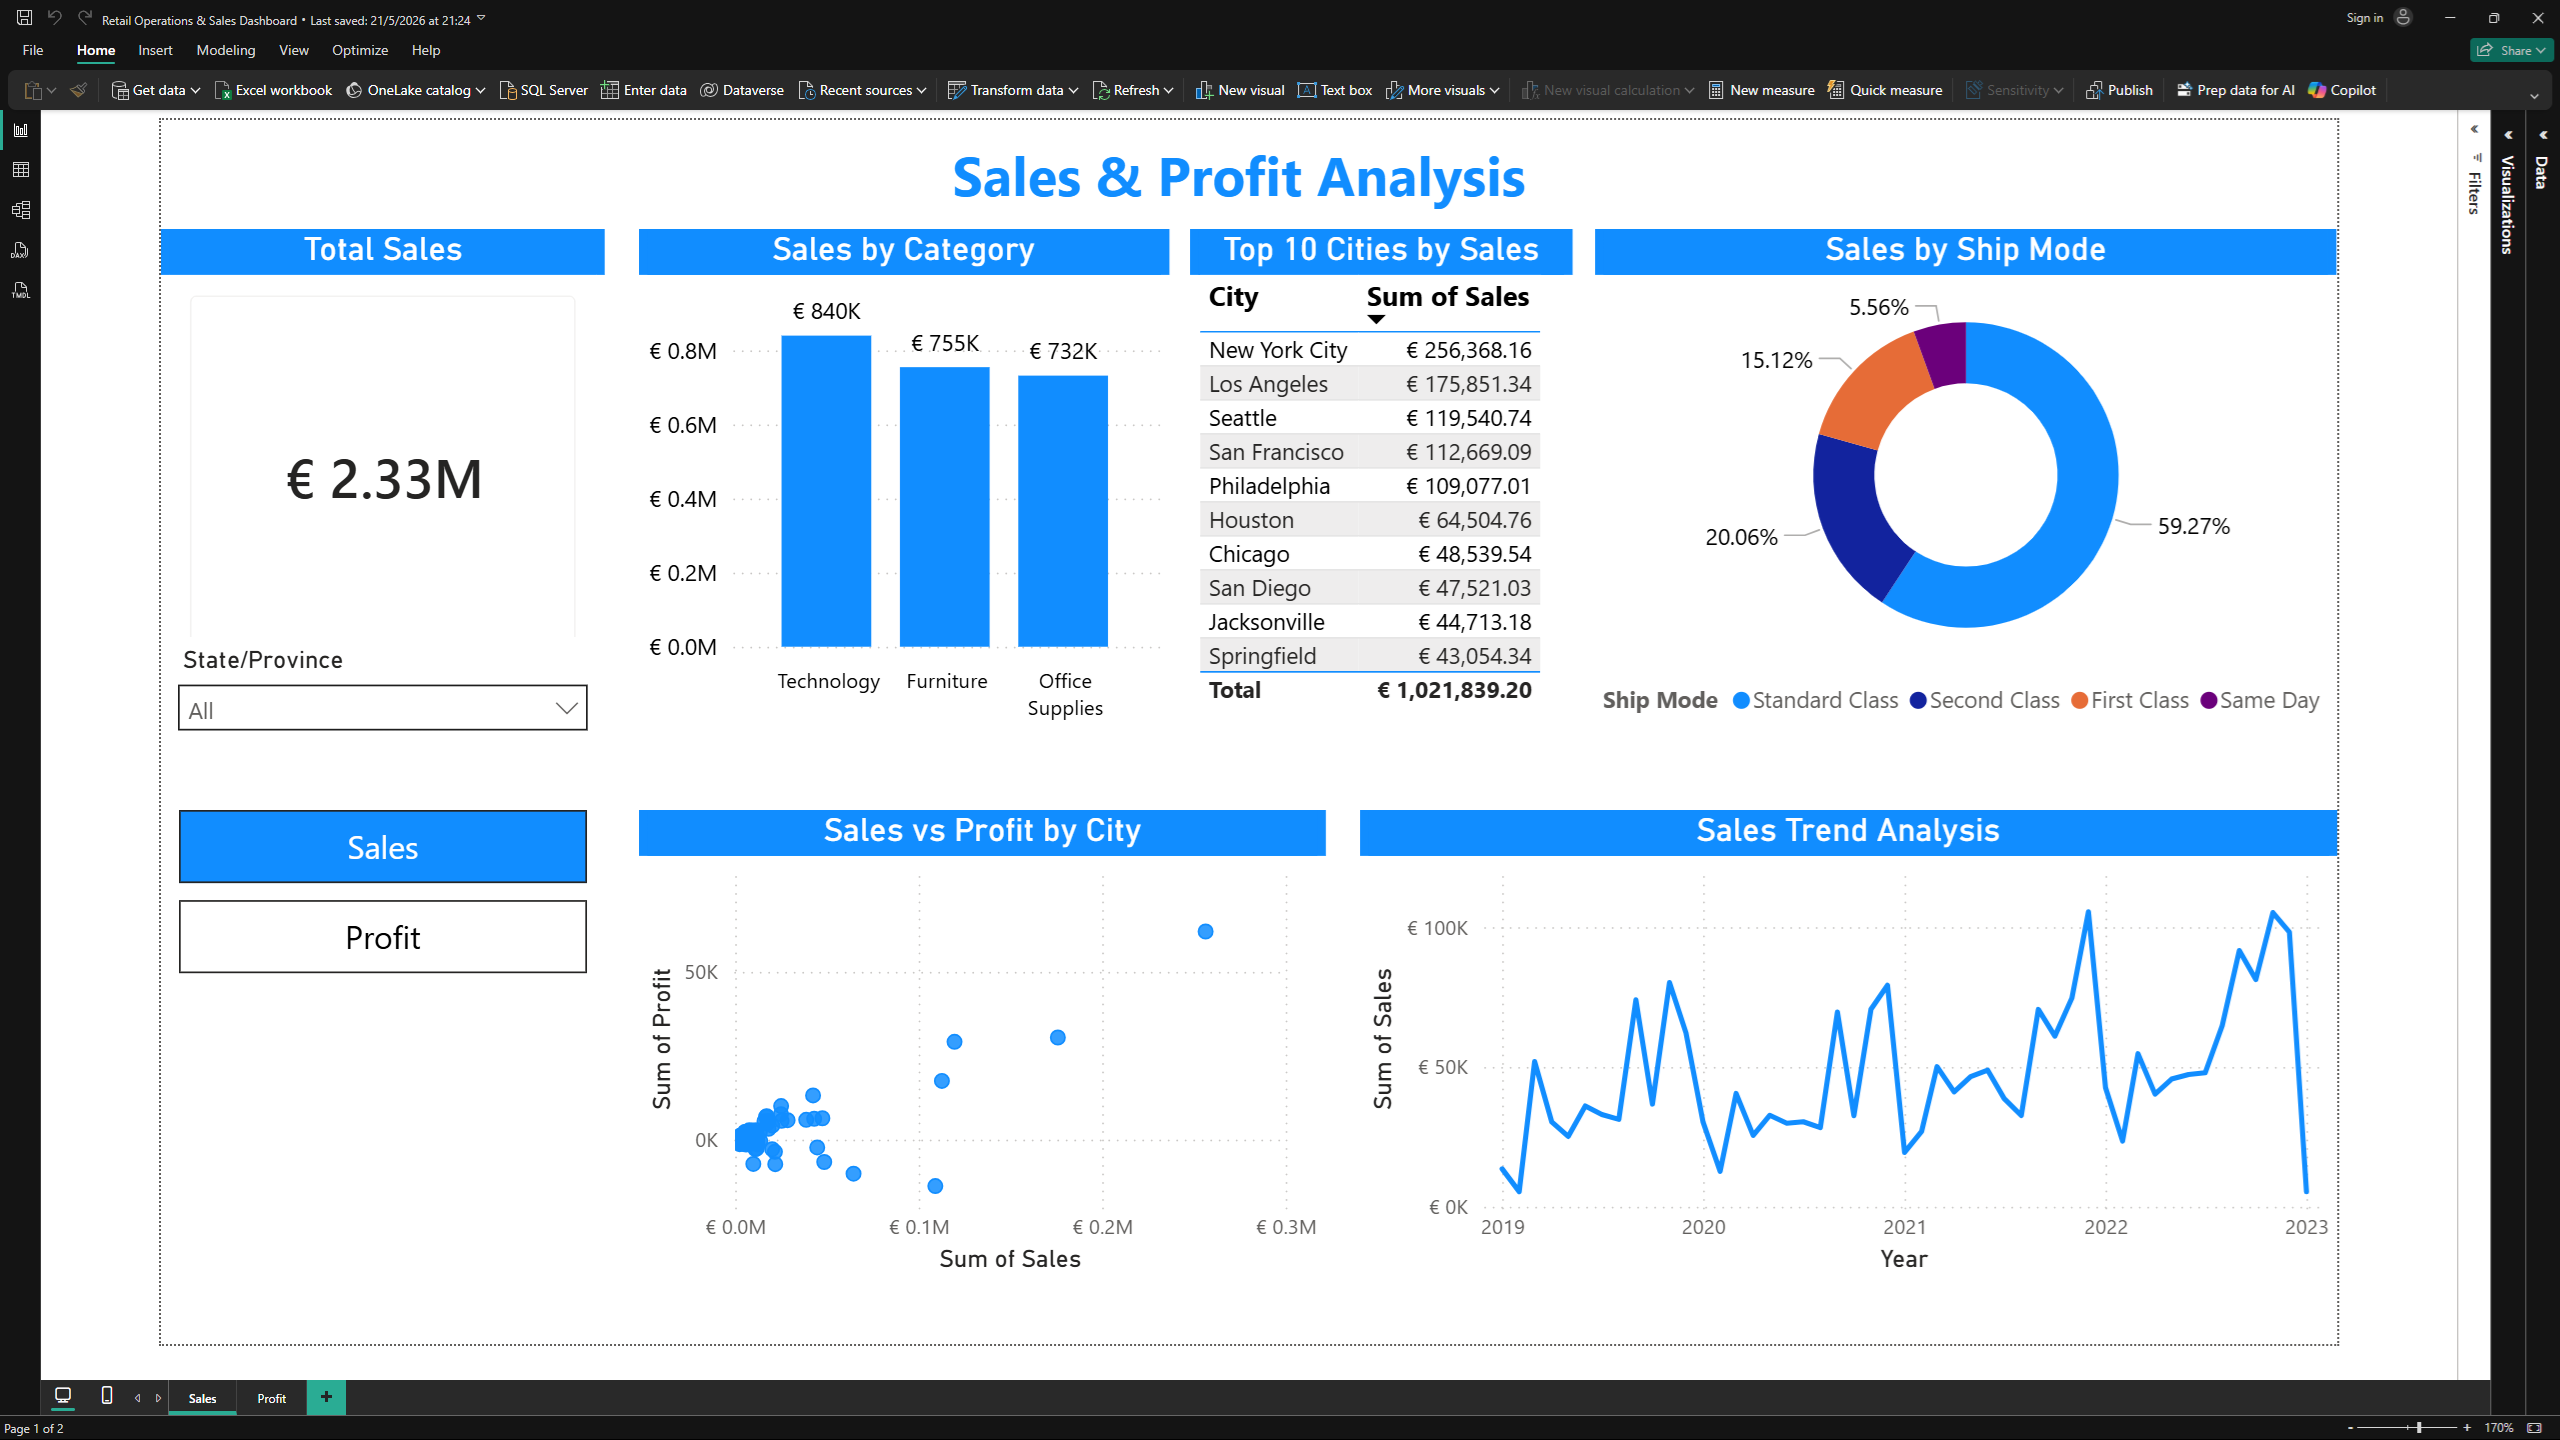

Layout of this report page (visuals, bound fields, positions):
{"tool":"powerbi","page":{"name":"Sales","canvas":[1280,720],"ordinal":0},"visuals":[{"type":"donutChart","title":"Sales by Ship Mode","fields":{"Y":["Sum(Raw_Data.Sales)"],"Category":["Raw_Data.Ship Mode"]},"box":[843.7,63.8,436.3,296.4],"z":0},{"type":"clusteredColumnChart","title":"Sales by Category","fields":{"Y":["Sum(Raw_Data.Sales)"],"Category":["Raw_Data.Category"]},"box":[281.2,63.8,311.6,296.4],"z":1000},{"type":"tableEx","title":"Top 10 Cities by Sales","fields":{"Values":["Raw_Data.City","Sum(Raw_Data.Sales)"]},"box":[605,63.8,225,296.4],"z":2000},{"type":"lineChart","title":"Sales Trend Analysis","fields":{"Y":["Sum(Raw_Data.Sales)"],"Category":["Raw_Data.Ship Date.Variation.Date Hierarchy.Year","Raw_Data.Ship Date.Variation.Date Hierarchy.Quarter","Raw_Data.Ship Date.Variation.Date Hierarchy.Month","Raw_Data.Ship Date.Variation.Date Hierarchy.Day"]},"box":[705.4,405.9,574.6,276.7],"z":3000},{"type":"scatterChart","title":"Sales vs Profit by City","fields":{"Category":["Raw_Data.City"],"X":["Sum(Raw_Data.Sales)"],"Y":["Sum(Raw_Data.Profit)"]},"box":[281.2,405.9,404.4,276.7],"z":4000},{"type":"cardVisual","title":"Total Sales","fields":{"Data":["Sum(Raw_Data.Sales)"]},"box":[0,63.8,261.5,263],"z":5000},{"type":"slicer","fields":{"Values":["Raw_Data.State/Province"]},"box":[0,304,261.5,86.7],"z":6000},{"type":"pageNavigator","box":[10.6,405.9,240.2,97.3],"z":7000},{"type":"textbox","box":[460.6,4.6,357.2,53.2],"z":8000}]}

Visuals, with their boxes on the page's 1280x720 design canvas (x1, y1, x2, y2). These are canvas units, not pixel positions in the 2560x1440 screenshot, which may show the page scaled, cropped or inside an application window:
"Sales by Ship Mode" donutChart: <region>844, 64, 1280, 360</region>
"Sales by Category" clusteredColumnChart: <region>281, 64, 593, 360</region>
"Top 10 Cities by Sales" tableEx: <region>605, 64, 830, 360</region>
"Sales Trend Analysis" lineChart: <region>705, 406, 1280, 683</region>
"Sales vs Profit by City" scatterChart: <region>281, 406, 686, 683</region>
"Total Sales" cardVisual: <region>0, 64, 262, 327</region>
slicer - Raw_Data.State/Province: <region>0, 304, 262, 391</region>
pageNavigator: <region>11, 406, 251, 503</region>
textbox: <region>461, 5, 818, 58</region>
